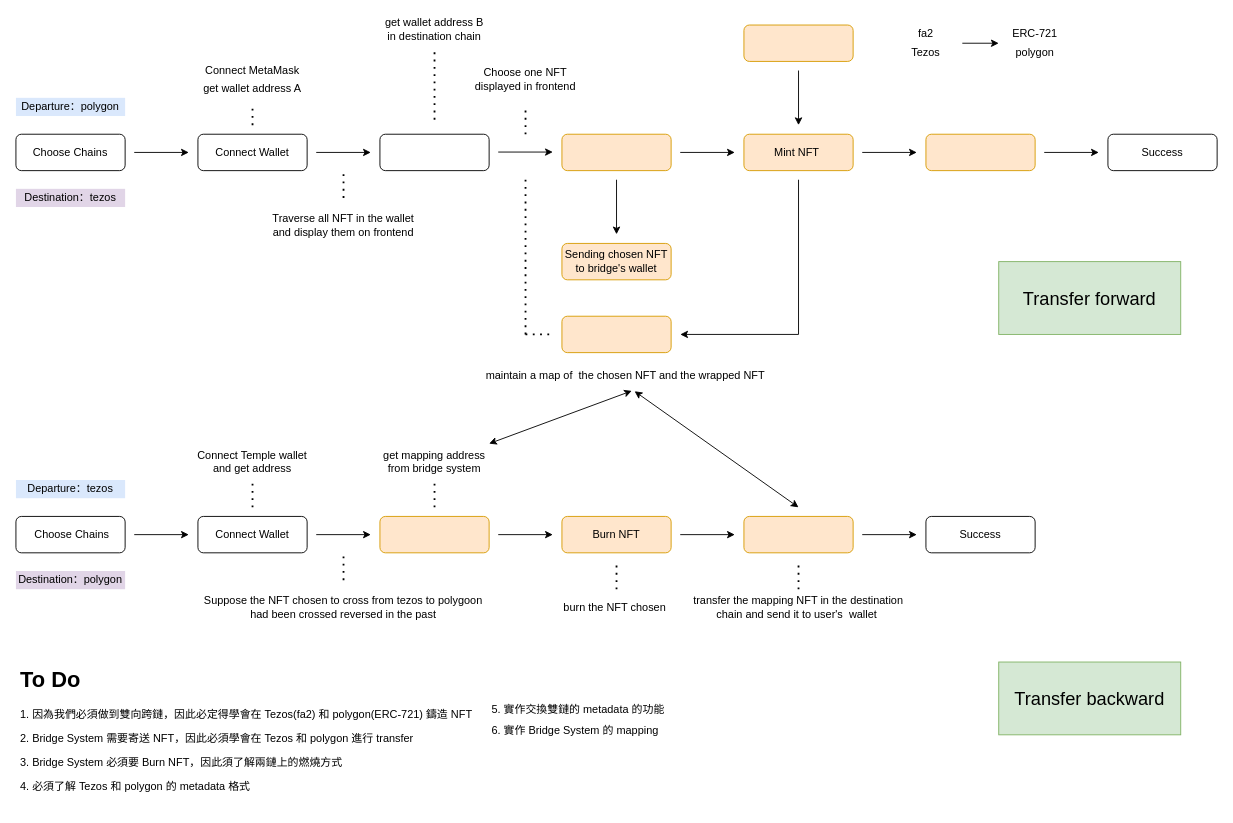
This 1233x823 diagram has some shape labels left out. The shapes that lost their labels are listed below. From the top down, each one's box as (x1, y1, x2, y2) in pixels, then its label:
(743, 24, 853, 61): transfer metadata
(379, 133, 489, 171): enter destination address
(561, 133, 671, 171): lock the chosen NFT
(925, 133, 1035, 171): Send NFT to target address
(561, 315, 671, 353): Maintain mapping
(379, 516, 489, 553): get address
(743, 516, 853, 553): Unlock NFT
